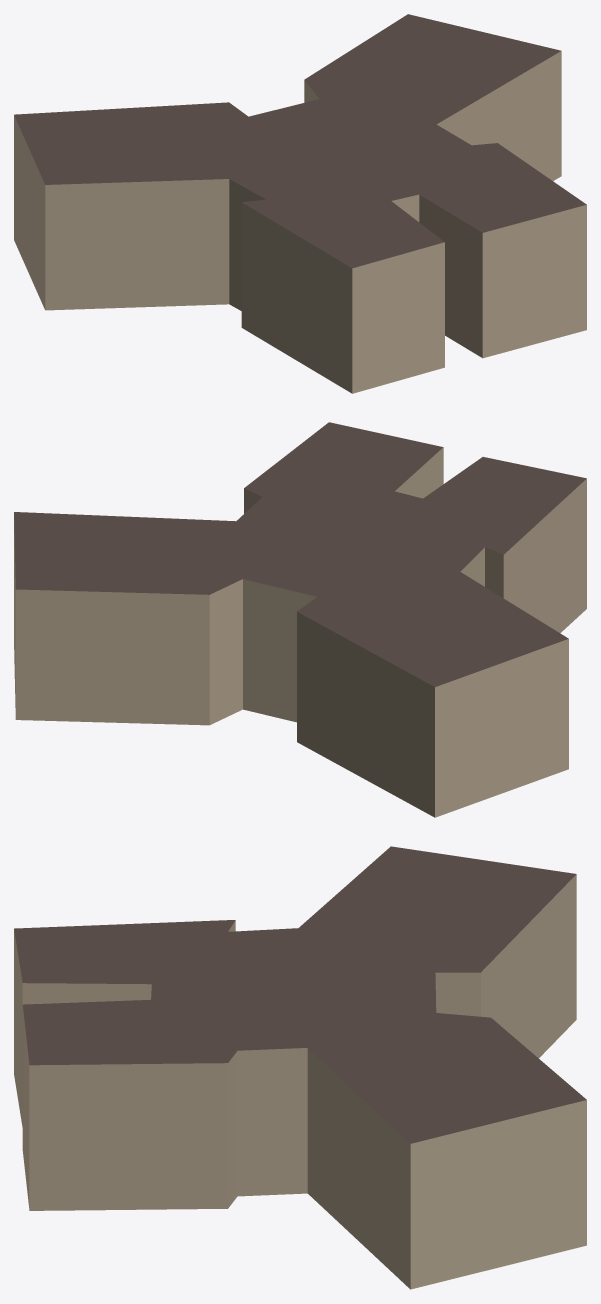
3 views of the same model, one above another, from view 1: azimuth 30°, elevation 25°; view 2: azimuth 150°, elevation 25°; view 3: azimuth 270°, elevation 25° (orthographic). The views are drawn at different scales.
Visible parts, largest first — view 1: HP-w1515071118; view 2: HP-w1515071118; view 3: HP-w1515071118.
Part boxes in pixels (x1,y1,x2,y2): HP-w1515071118: [14, 14, 586, 393]; HP-w1515071118: [14, 422, 586, 817]; HP-w1515071118: [14, 846, 586, 1289].
Size of the model in its own units: 39.41 by 9 by 32.08.
